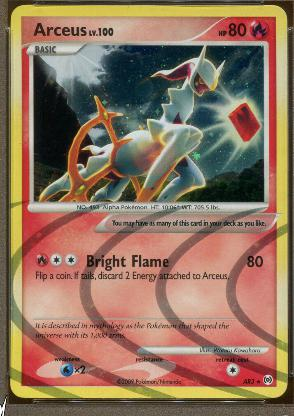Card: (6, 0, 287, 403)
